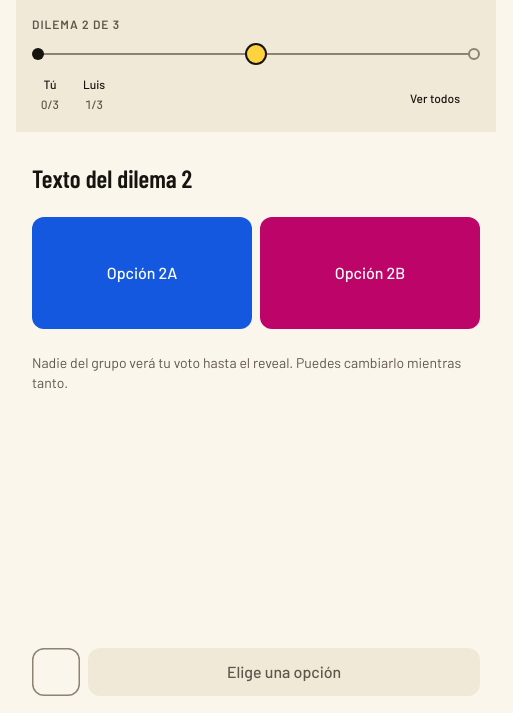
DilemmaScreen › should go back to the previous dilemma with the vote already given
The width and height of the screenshot is (513, 713).
What coordinates should you click on to do the following:
click the button named "Volver al dilema anterior"
I would click on:
 (56, 672)
Its box is [32,648,80,696].
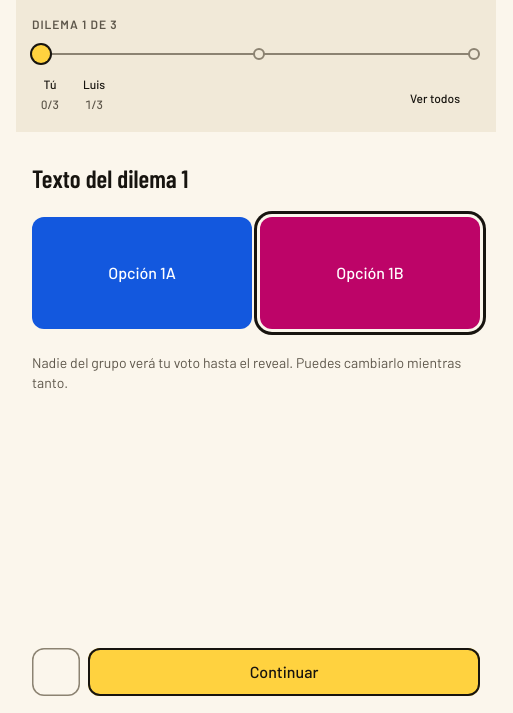
expect the heading "Texto del dilema 1" is shown: met, box [32,163,188,193]
